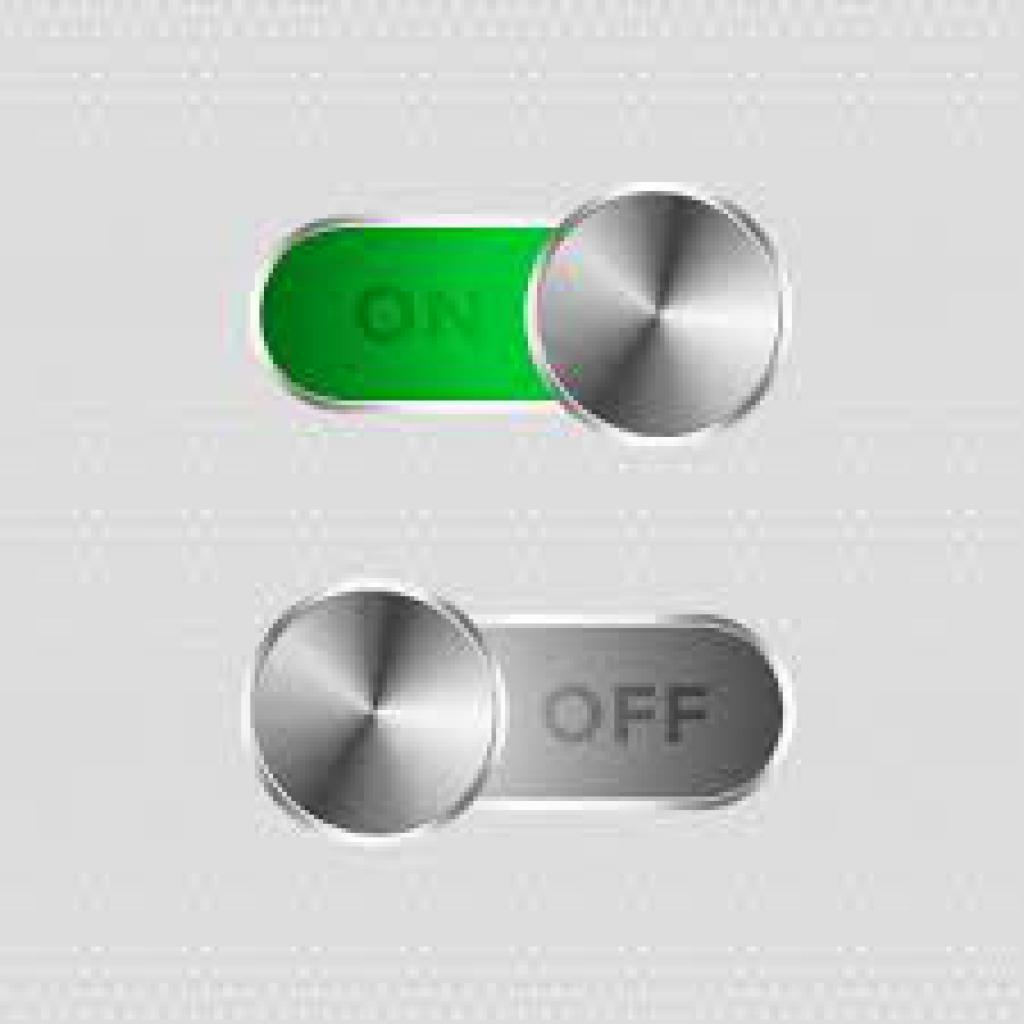switch: (252, 581, 789, 840), (255, 192, 795, 443)
